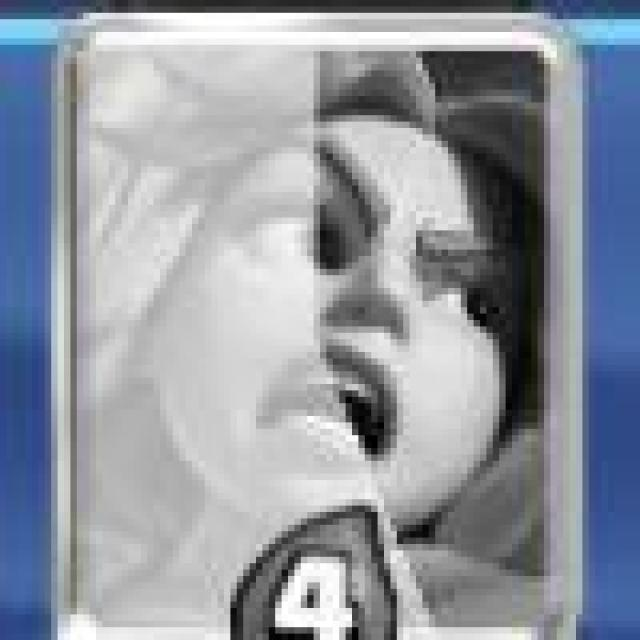Valkyrie: (65, 25, 580, 628)
